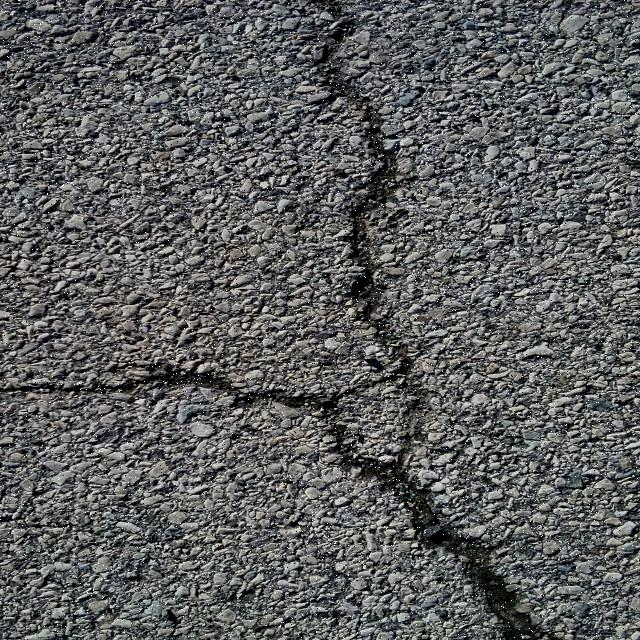Crack: (0, 0, 569, 640)
